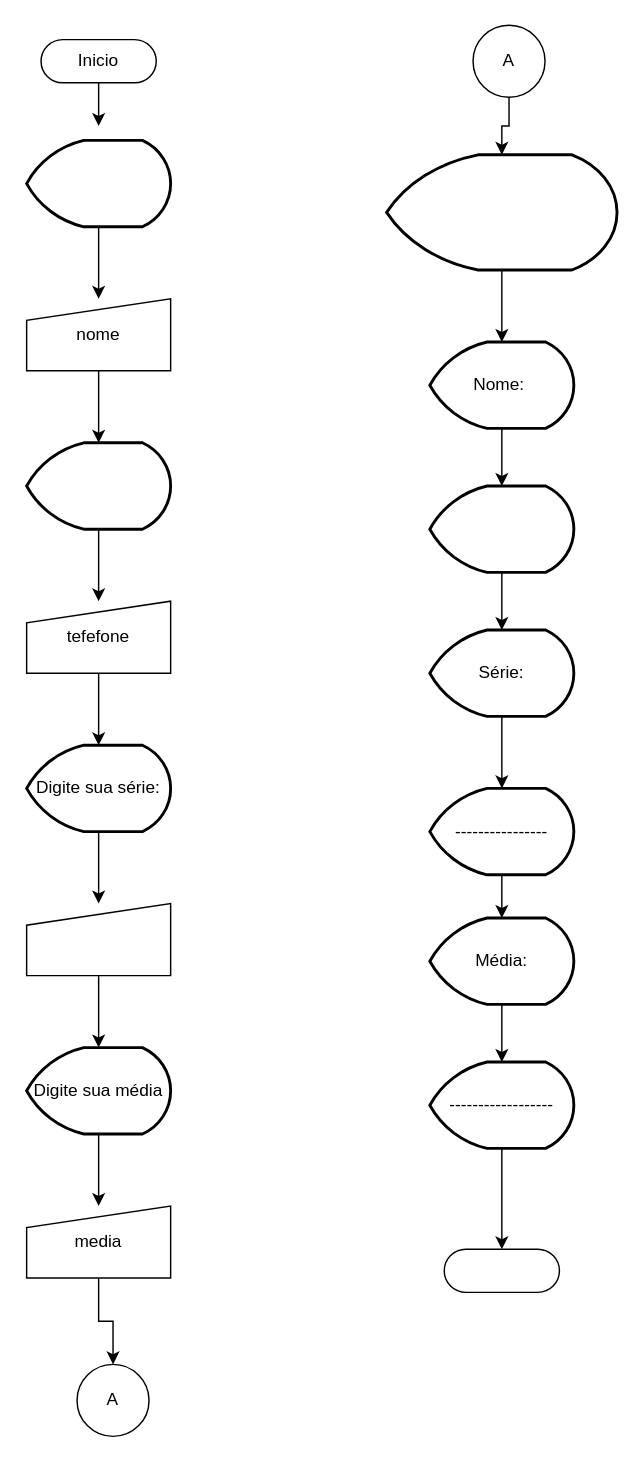
Image size: 642x1462. Some labels were removed from this diagram. The shapes that lost their labels are listed below. From the top down, each one's centre as x and y in pixels, then its label:
At pixel 97 183: "Digite seu nome:".
At pixel 501 212: "--------Tecnico em infomática EAaD--------------".
At pixel 97 485: "Digite seu Telefone:".
At pixel 501 528: "Telefone:".
At pixel 98 939: "serie".
At pixel 501 1270: "Fim".
